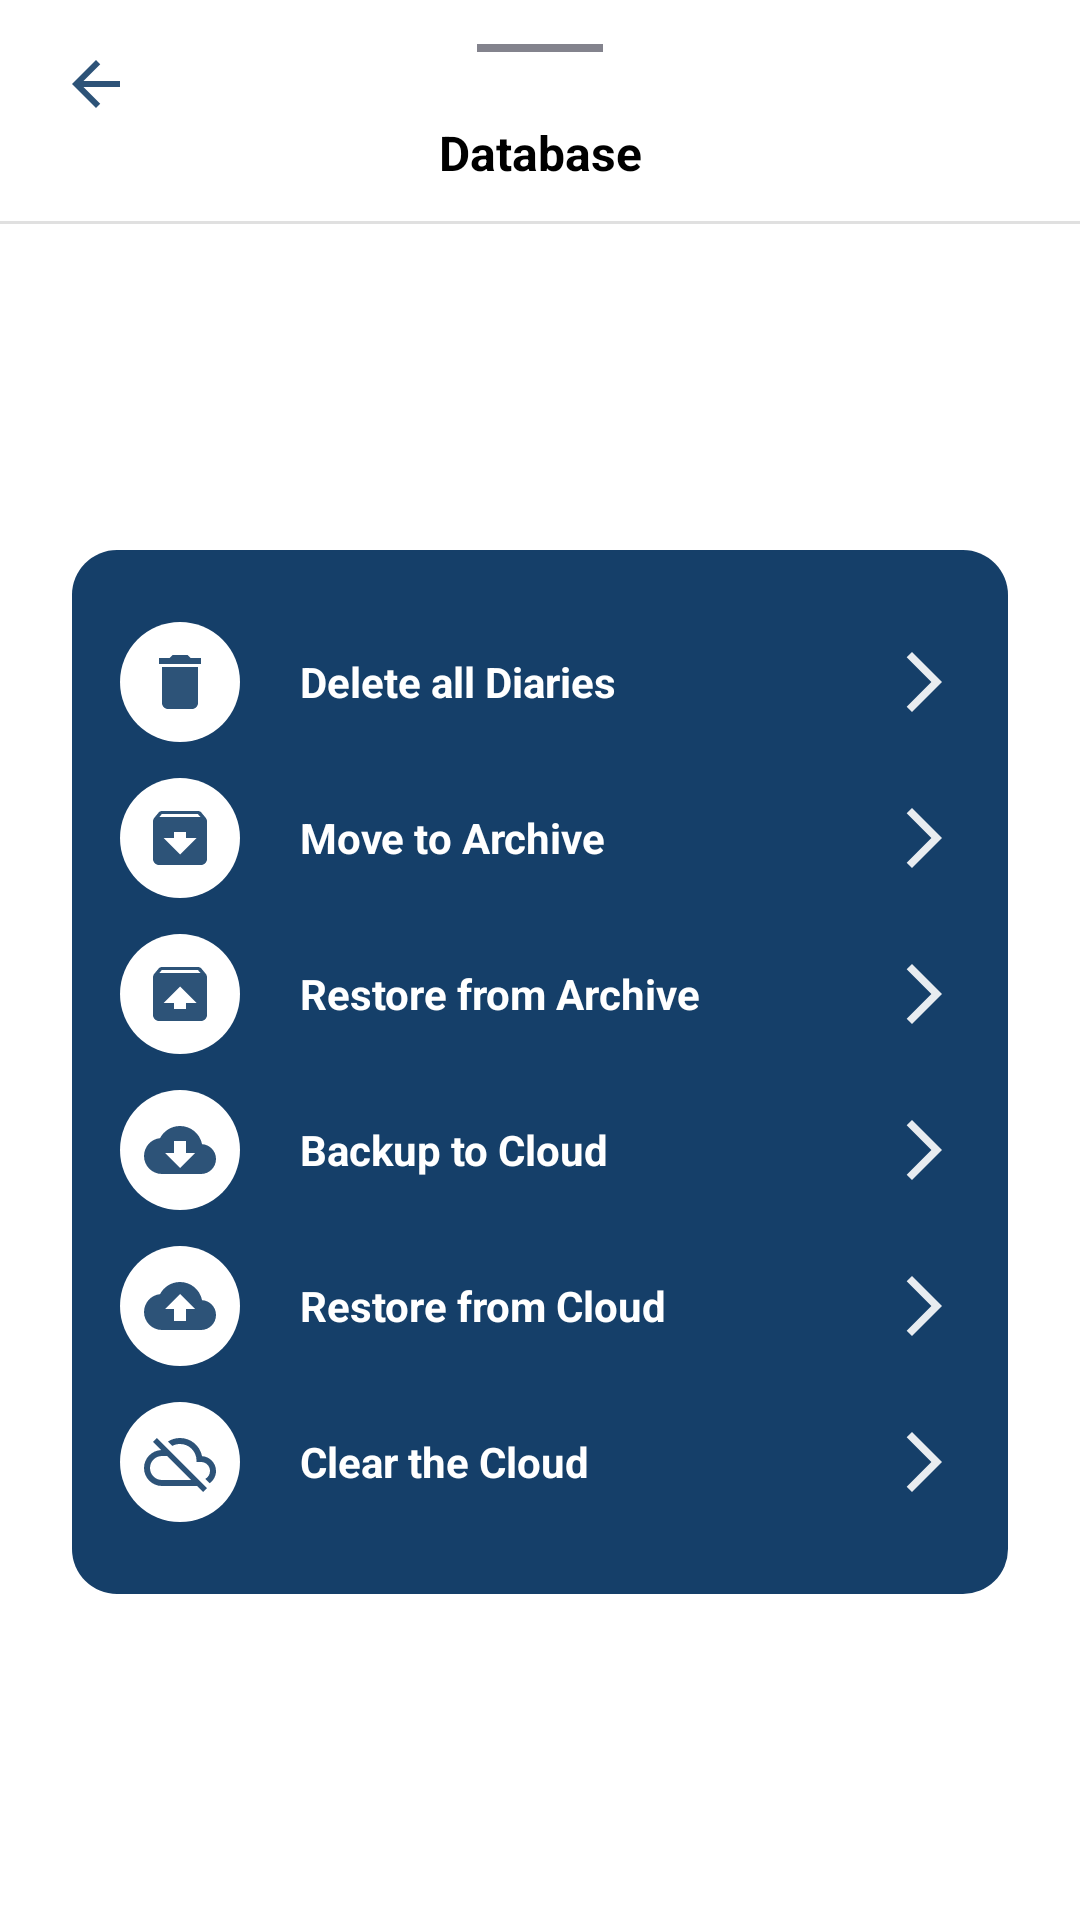

Named icons in this screenshot (1080x1920) and their bounding boxes, (x1, y1, x2, y2):
base settings archive: (120, 778, 240, 898)
base settings backload: (120, 1246, 240, 1366)
base settings backup: (120, 1090, 240, 1210)
base settings clear: (120, 1402, 240, 1522)
base settings delete: (120, 622, 240, 742)
base settings unarchive: (120, 934, 240, 1054)
